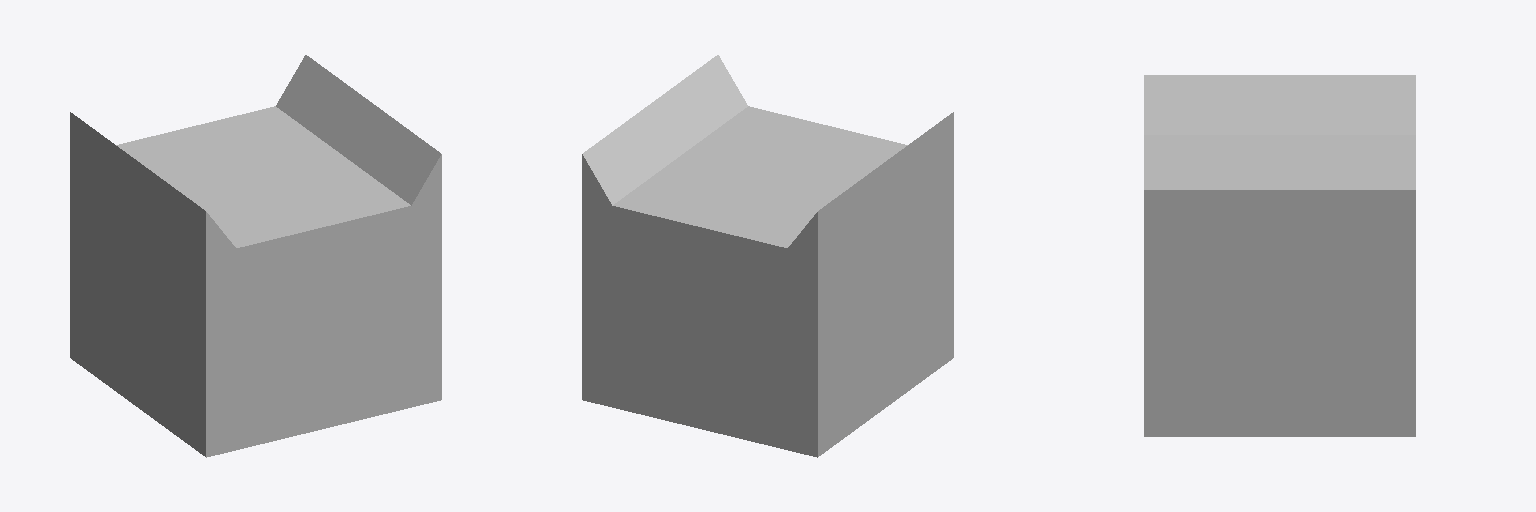
File: block_2.obj
3 views of the same model, side by side, from view 1: azimuth 30°, elevation 25°; view 2: azimuth 150°, elevation 25°; view 3: azimuth 270°, elevation 25° (orthographic).
Visible parts, largest first — view 1: Cube.001; view 2: Cube.001; view 3: Cube.001.
Boxes of the visible parts, x1,y1,x2,y2 form: Cube.001: [70, 55, 441, 457]; Cube.001: [582, 55, 953, 457]; Cube.001: [1144, 75, 1415, 436].
Bounding box in the file's own units: 2 × 2 × 2.